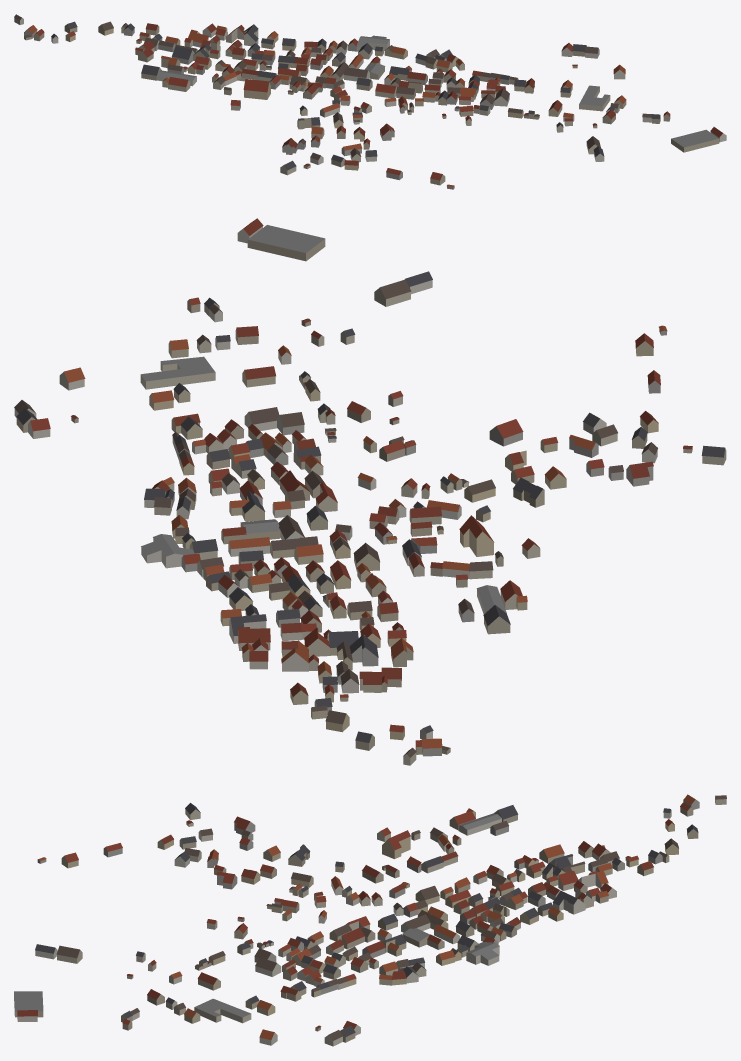
The picture shows the model from 3 angles, top to bottom: view 1: azimuth 30°, elevation 25°; view 2: azimuth 150°, elevation 25°; view 3: azimuth 270°, elevation 25°; orthographic projection. The views are drawn at different scales.
Parts seen in each view (by area): view 1: buildings; view 2: buildings; view 3: buildings.
Boxes of the visible parts, box(x1,y1,x2,y2) form: buildings: box(14, 14, 726, 189); buildings: box(14, 218, 726, 765); buildings: box(14, 794, 726, 1046).
Size of the model in its own units: 522 by 40.82 by 662.
